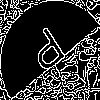P: (25, 25, 73, 82)
